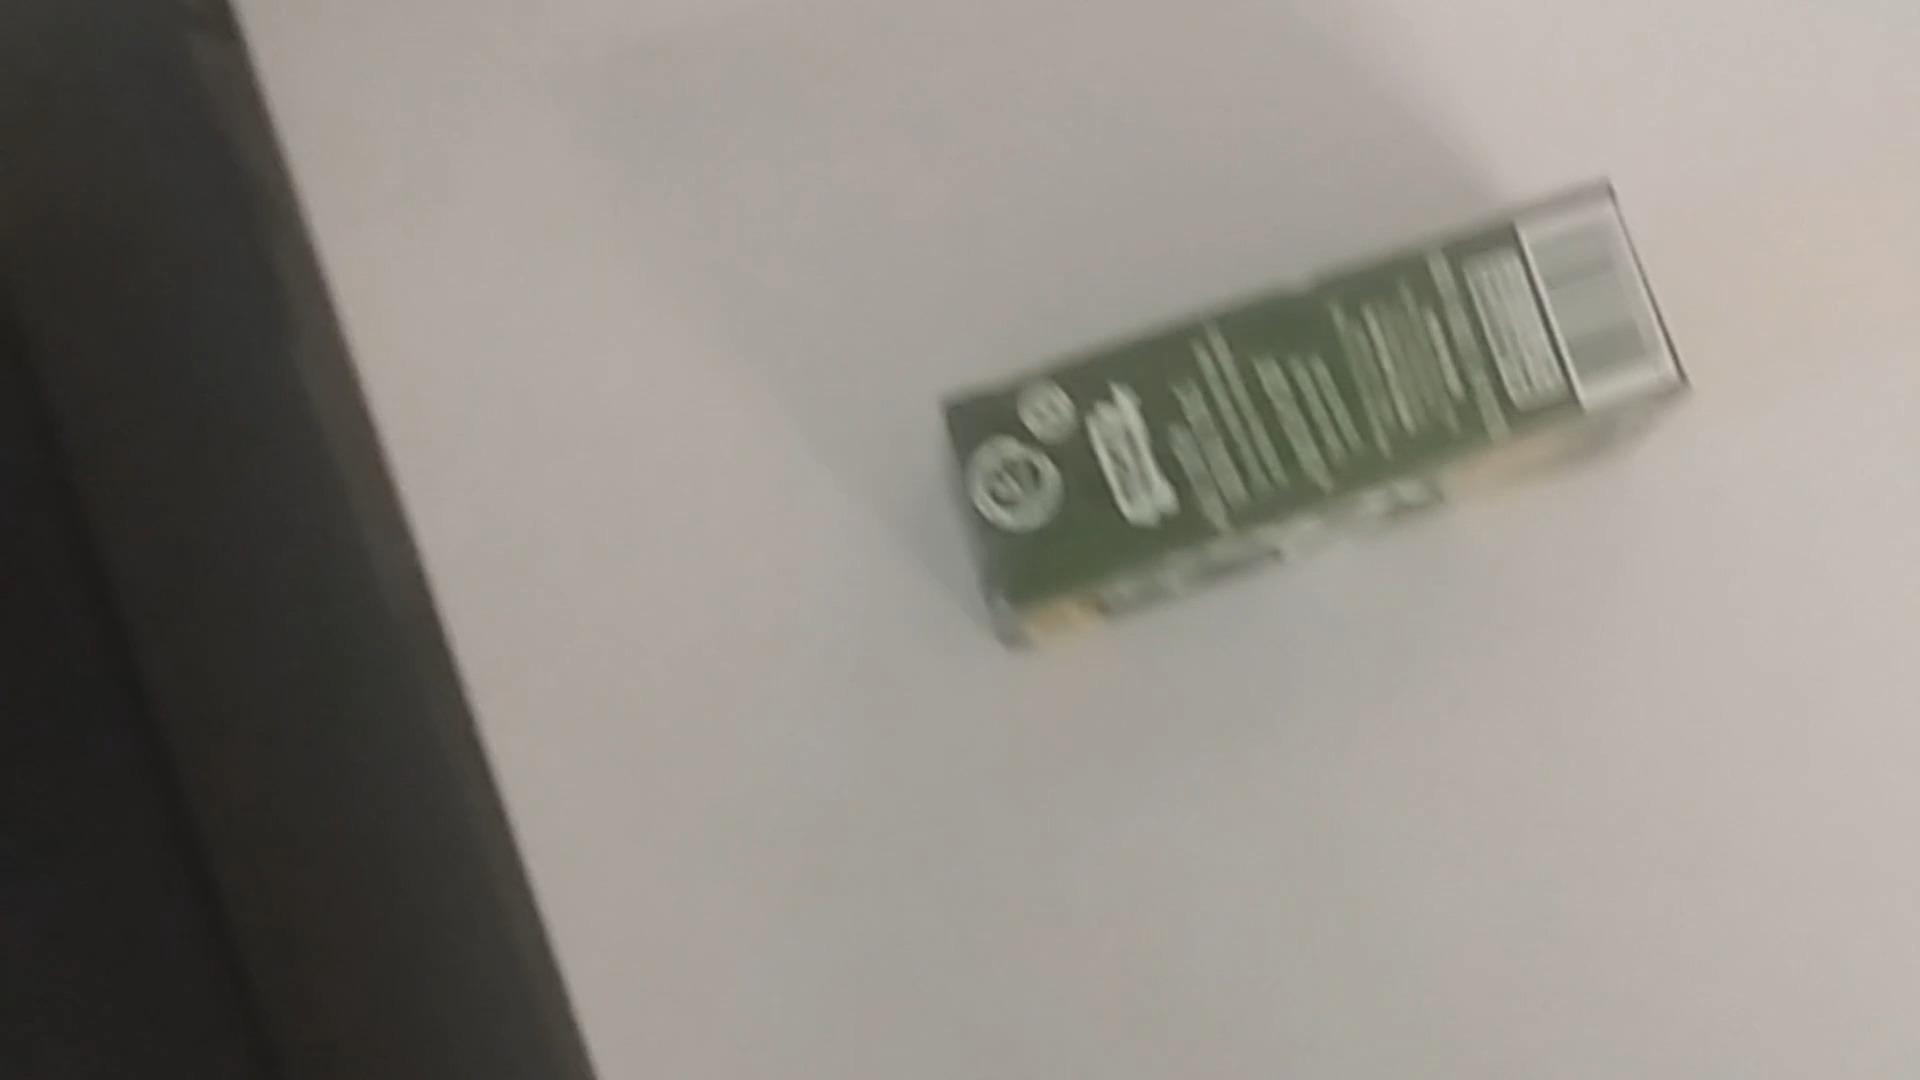coco: (885, 173, 1720, 662)
